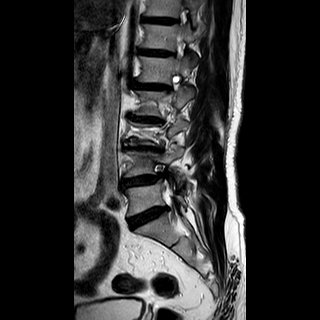RFS0: (160, 69, 185, 97)
